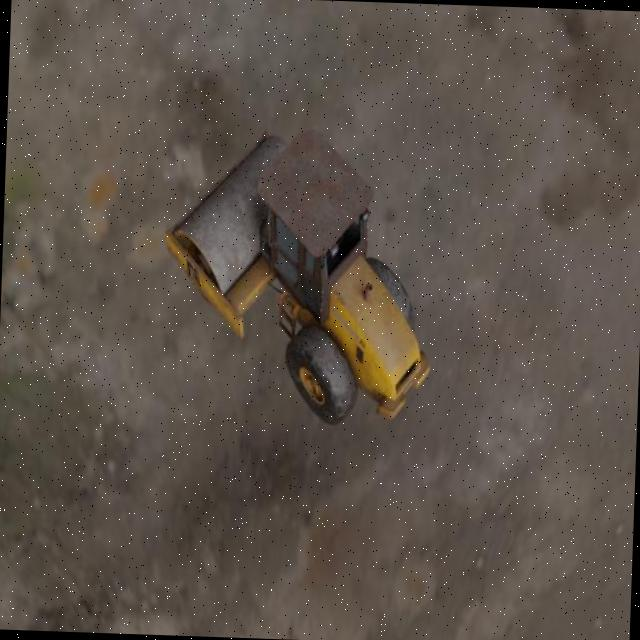Roller: (157, 123, 436, 428)
